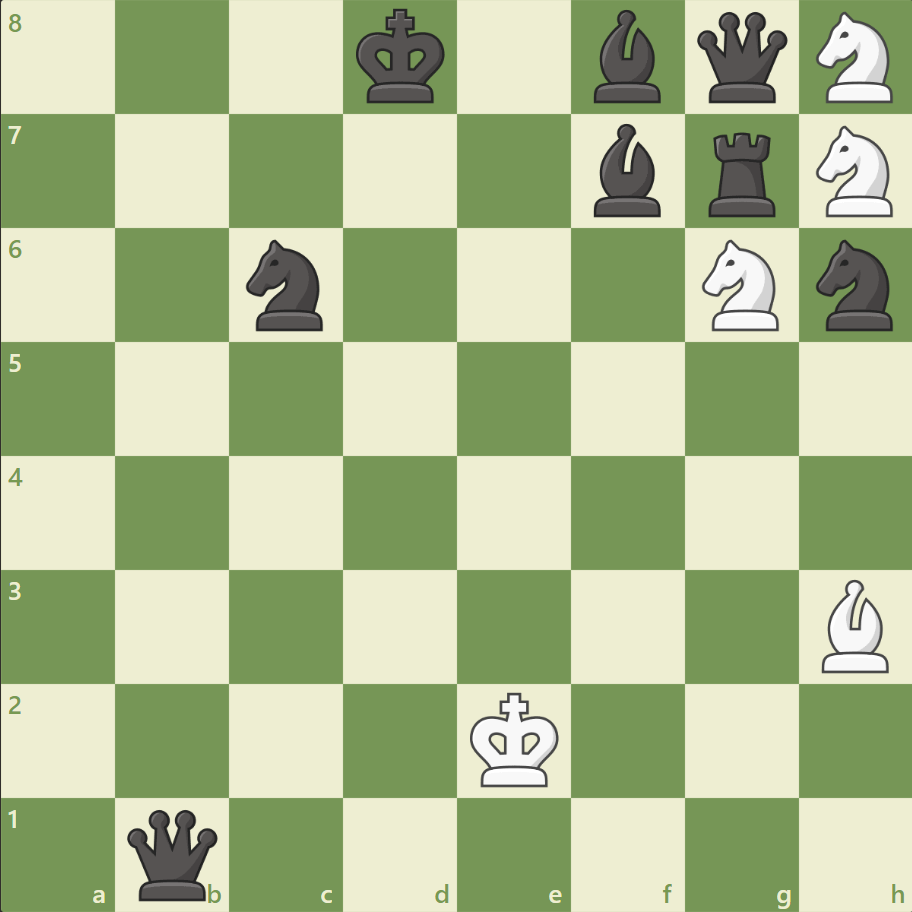B: (812, 574, 896, 676)
K: (465, 685, 565, 793)
N: (806, 7, 903, 110), (692, 234, 789, 337), (806, 121, 903, 223)
b: (585, 6, 669, 109), (585, 120, 669, 222)
k: (351, 4, 451, 112)
n: (238, 234, 335, 337), (806, 234, 903, 337)
q: (691, 9, 790, 108), (124, 804, 223, 903)
r: (700, 125, 783, 222)
